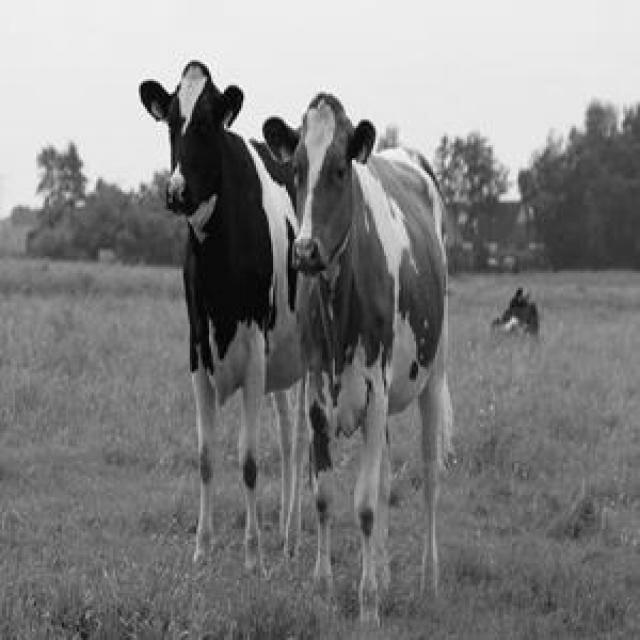cow: (262, 94, 449, 623), (140, 61, 301, 574)
